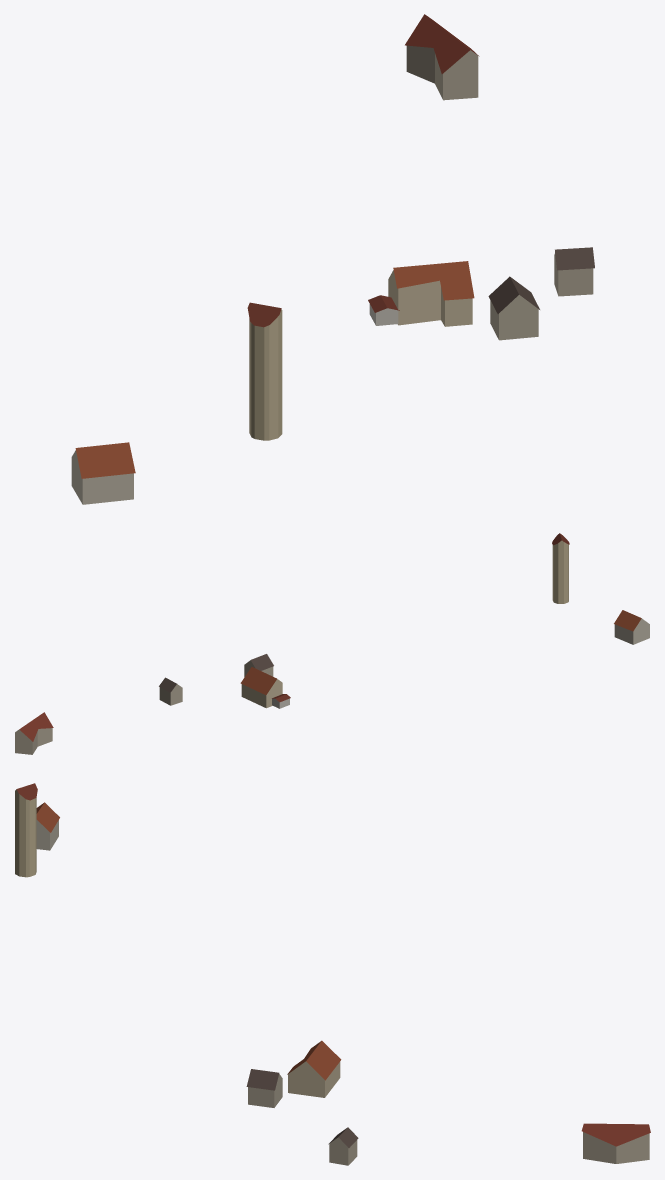
3 views of the same model, one above another, from view 1: azimuth 30°, elevation 25°; view 2: azimuth 150°, elevation 25°; view 3: azimuth 270°, elevation 25° (orthographic). The views are drawn at different scales.
Parts seen in each view (by area): view 1: buildings; view 2: buildings; view 3: buildings.
Boxes of the visible parts, x1,y1,x2,y2 form: buildings: [71, 14, 594, 504]; buildings: [15, 533, 649, 754]; buildings: [15, 783, 650, 1165].
Size of the model in its own units: 189 by 62.99 by 187.
